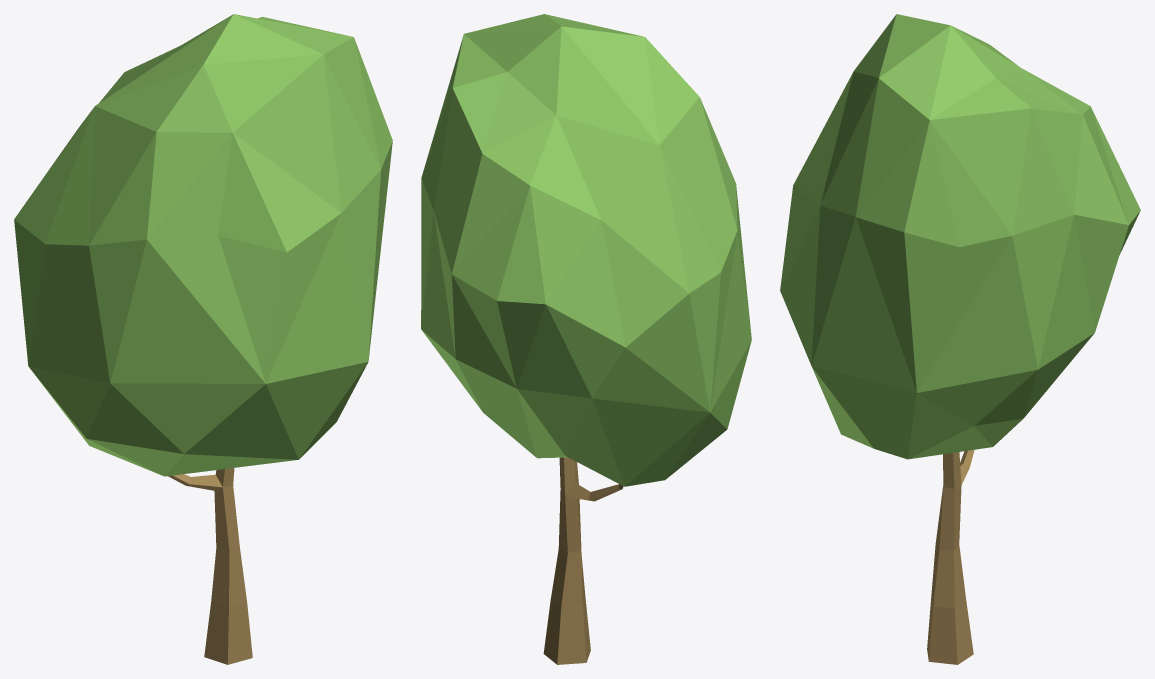
File: Oak_Tree_m_02.fbx
The picture shows the model from 3 angles, left to right: view 1: azimuth 30°, elevation 25°; view 2: azimuth 150°, elevation 25°; view 3: azimuth 270°, elevation 25°; orthographic projection.
Parts seen in each view (by area): view 1: Oak_Tree_m_02; view 2: Oak_Tree_m_02; view 3: Oak_Tree_m_02.
Part boxes in pixels (bbox=[...]): Oak_Tree_m_02: bbox=[14, 14, 392, 664]; Oak_Tree_m_02: bbox=[421, 14, 751, 664]; Oak_Tree_m_02: bbox=[780, 14, 1140, 664].
Size of the model in its own units: 479 by 930 by 481.
